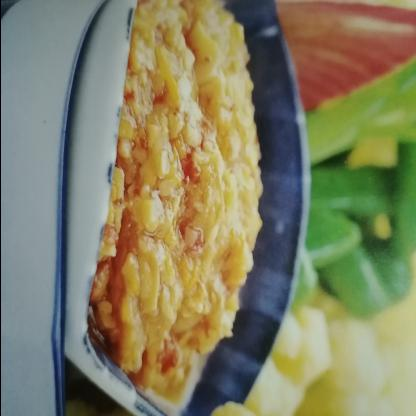Namprig: (38, 6, 310, 416)
